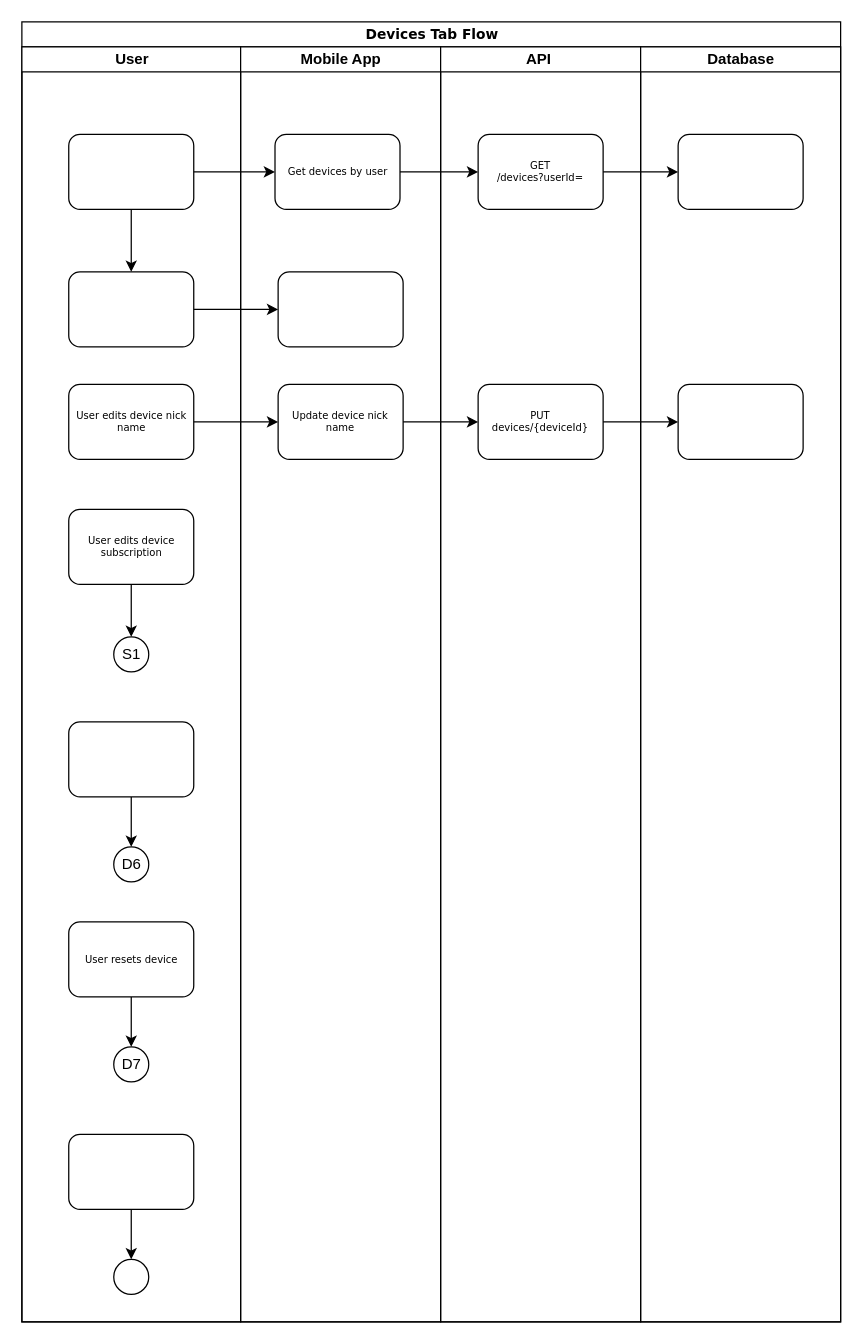
The diagram is 863 pixels wide and 1344 high, and some of its shapes have lost their labels. Each missing label, with the centre of its shape:
"D1" belongs at (x=130, y=1276).
"Display device details" belongs at (x=340, y=309).
"getDevicesByUser" belongs at (x=740, y=171).
"updateDevice" belongs at (x=740, y=421).
"User changes wifi network" belongs at (x=131, y=759).
"User clicks on a device" belongs at (x=131, y=309).
"User clicks on add device" belongs at (x=131, y=1171).
"User clicks on Devices tab" belongs at (x=131, y=171).
